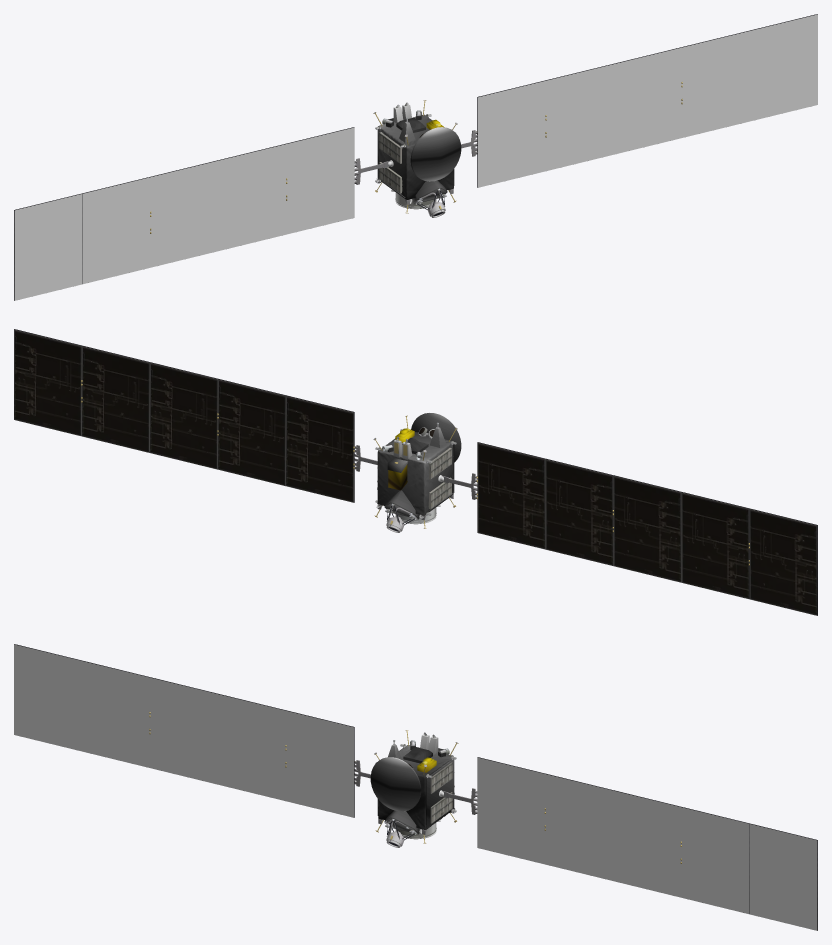
Rendered from space-dawn.glb.
3 renders of one model, top to bottom at view 1: azimuth 30°, elevation 25°; view 2: azimuth 150°, elevation 25°; view 3: azimuth 330°, elevation 25°, orthographic.
Parts seen in each view (by area): view 1: tex_01.002, black_krinkle, tex_01; view 2: tex_01, black_krinkle, foil_gold; view 3: tex_01.002, black_krinkle, tex_01.
Part boxes in pixels (<box>): tex_01.002: <box>14,14,817,300</box>; black_krinkle: <box>377,104,461,208</box>; tex_01: <box>14,14,817,300</box>; tex_01: <box>14,329,817,615</box>; black_krinkle: <box>377,413,461,523</box>; foil_gold: <box>388,428,414,490</box>; tex_01.002: <box>14,644,817,930</box>; black_krinkle: <box>370,734,454,838</box>; tex_01: <box>14,644,817,930</box>.
Bounding box in the file's own units: 19.7 × 2.2 × 2.21.
Materials: 4 (3 with a texture image).
